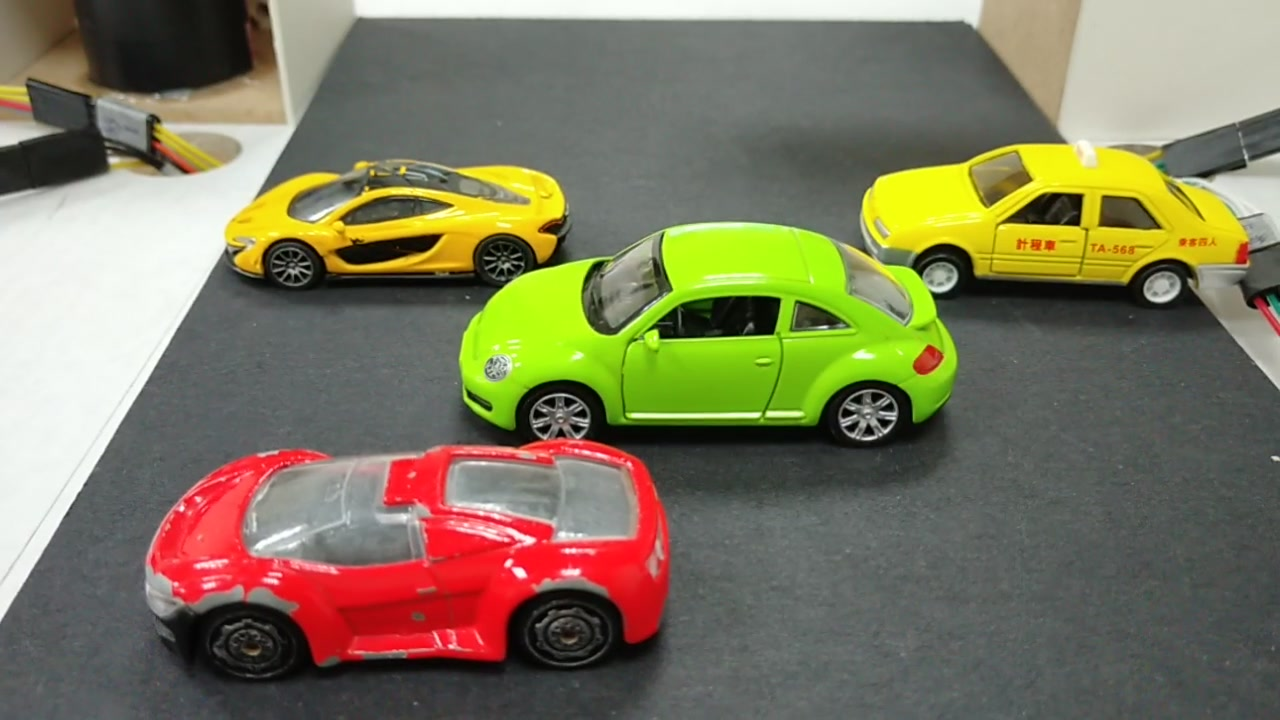car: (150, 449, 670, 690), (479, 232, 951, 449), (882, 164, 1253, 321), (232, 175, 564, 274)
